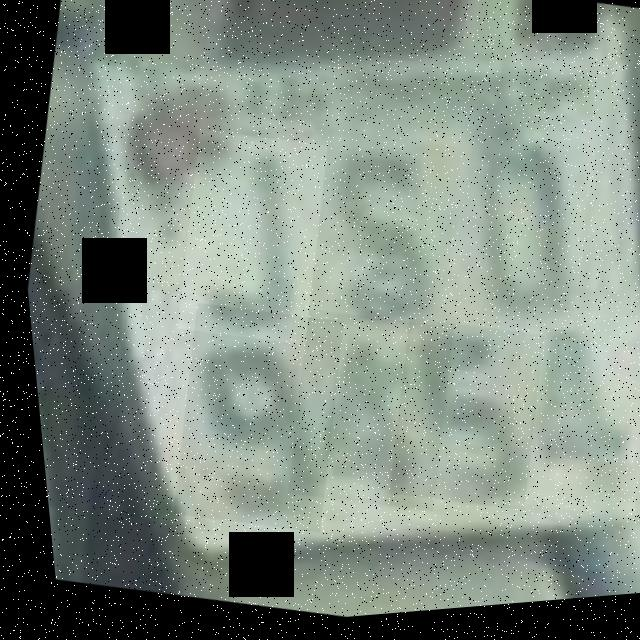4: (264, 305, 460, 527), (479, 305, 640, 537)
5: (365, 315, 549, 526)
9: (146, 296, 352, 546)
E: (358, 302, 551, 519)
J: (155, 125, 339, 357)
O: (424, 119, 606, 348)
S: (286, 127, 471, 353)
